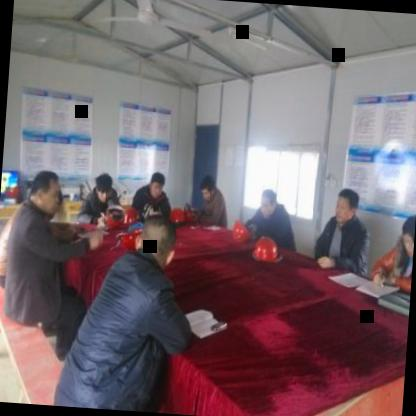head: (130, 208, 180, 276), (25, 164, 66, 218), (331, 184, 362, 226), (395, 207, 416, 266), (86, 171, 116, 207), (258, 186, 284, 221), (196, 174, 218, 204), (147, 170, 168, 198)
